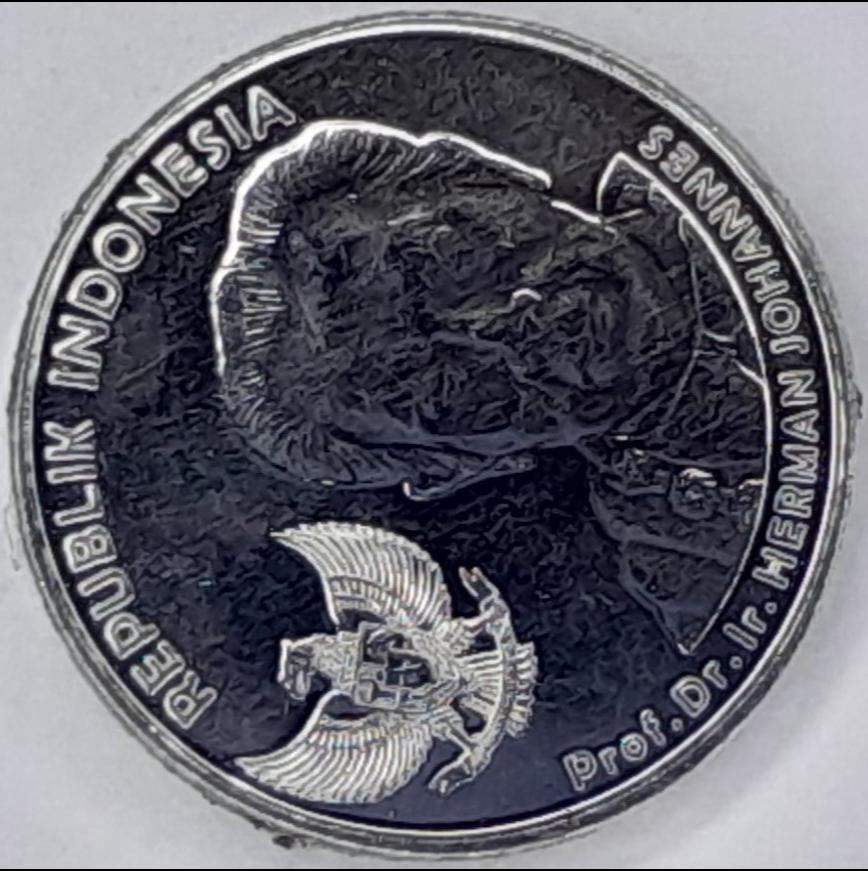coin_100_e2016: (3, 6, 864, 862)
